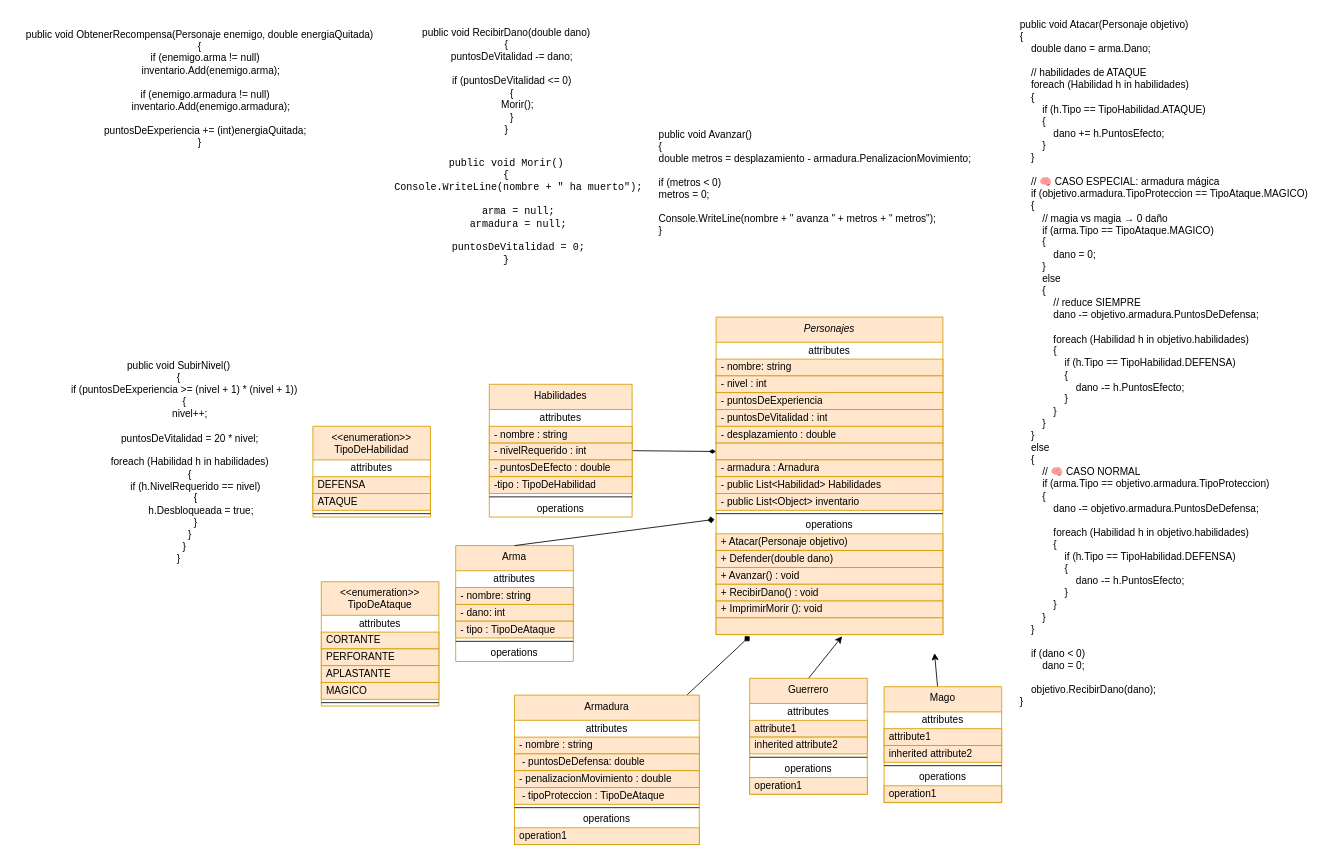
Some shapes in this 1343 by 859 pixel diagram are drawn without their labels. The shapes that lost their labels are listed below. From the top down, each one's centre as x and y in pixels, then its label:
At point (829, 451): "- arma : Arma".
At point (829, 626): "+ SubirNivel() : void".
